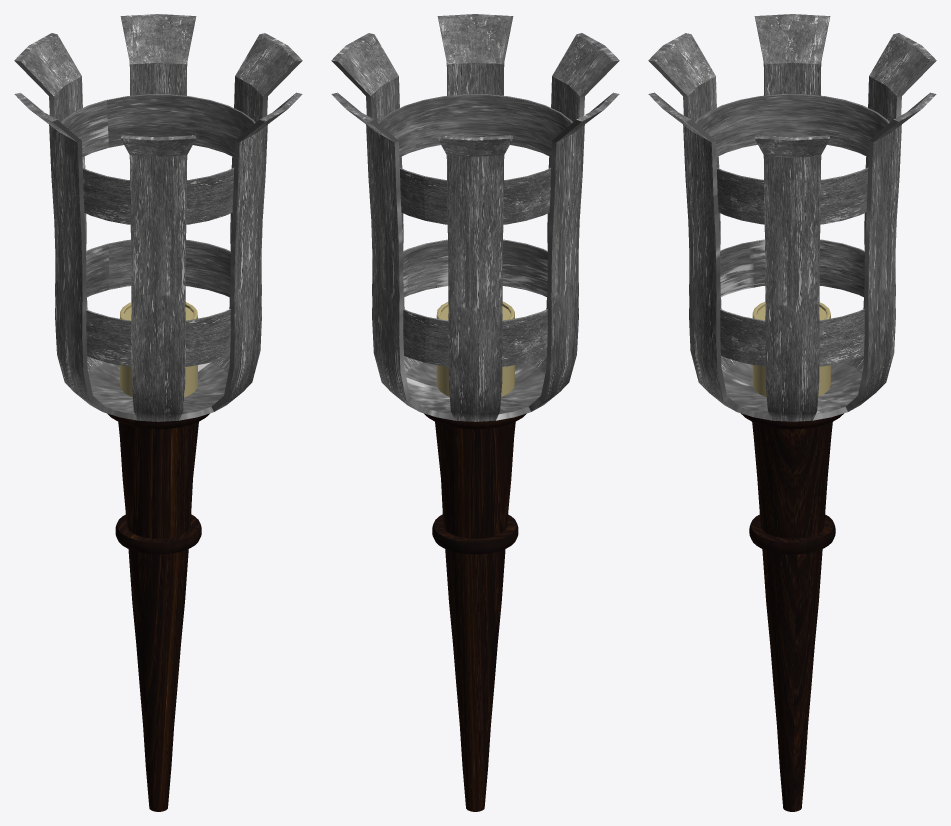
The model's file is torch.glb.
3 renders of one model, left to right at view 1: azimuth 30°, elevation 25°; view 2: azimuth 150°, elevation 25°; view 3: azimuth 270°, elevation 25°, orthographic.
Parts seen in each view (by area): view 1: pCylinder5; view 2: pCylinder5; view 3: pCylinder5.
Boxes of the visible parts, x1,y1,x2,y2 form: pCylinder5: (14,14,302,811); pCylinder5: (331,14,619,811); pCylinder5: (648,14,936,811).
Bounding box in the file's own units: 0.1012 × 0.2727 × 0.0976.
Materials: 5 (3 with a texture image).
